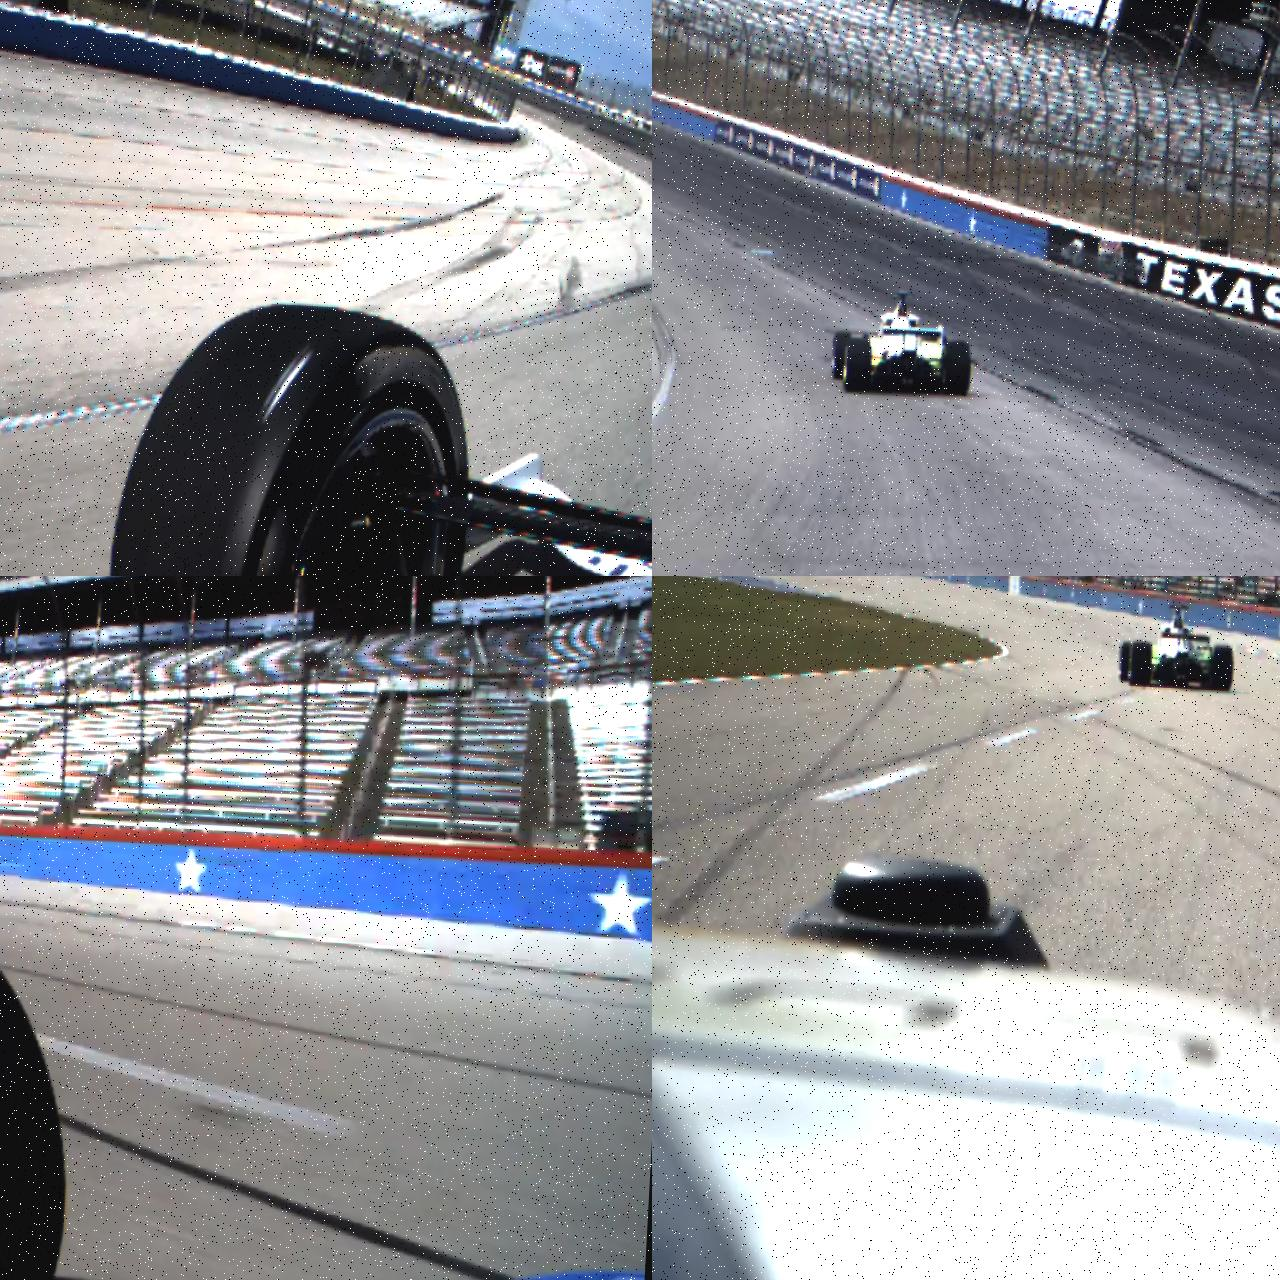AV: (829, 285, 974, 399), (1117, 601, 1237, 692)
Wheel: (95, 297, 479, 576), (842, 338, 872, 394), (942, 340, 972, 396), (1210, 644, 1234, 692), (830, 331, 851, 381), (1130, 640, 1152, 687), (1118, 640, 1133, 682)
